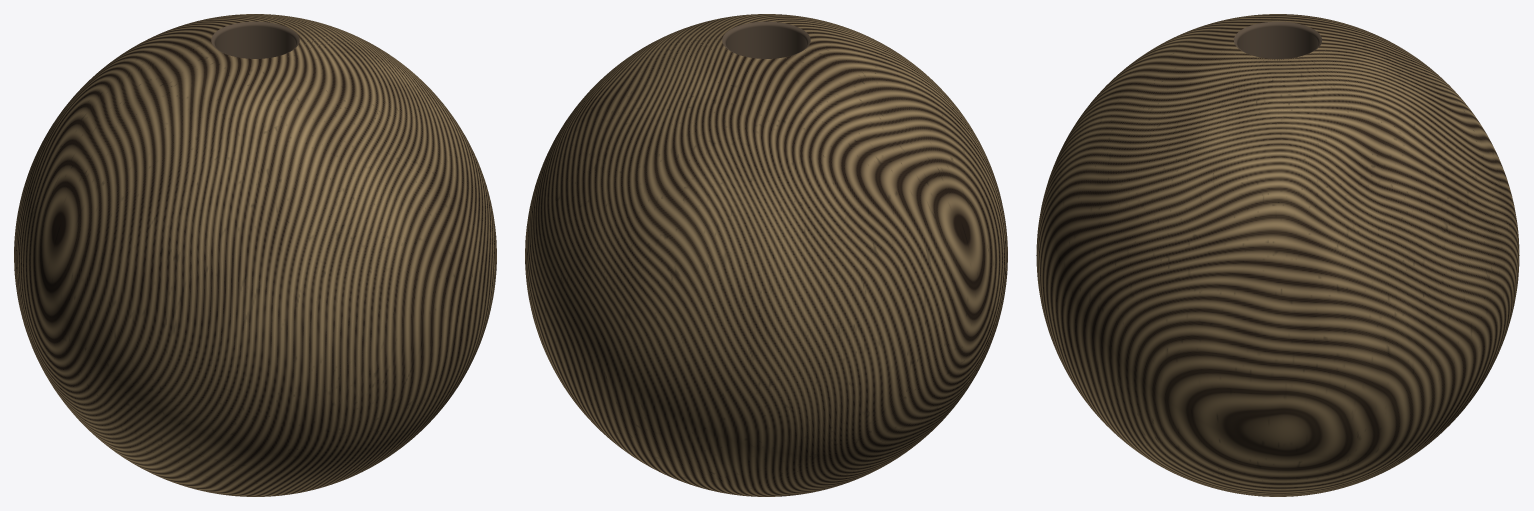
Rendered from wood-wenge-6mm.glb.
3 renders of one model, left to right at view 1: azimuth 30°, elevation 25°; view 2: azimuth 150°, elevation 25°; view 3: azimuth 270°, elevation 25°, orthographic.
Visible parts, largest first — view 1: wenge; view 2: wenge; view 3: wenge.
Part boxes in pixels (left/top/right/bottom): wenge: left=14, top=14, right=496, bottom=496; wenge: left=525, top=14, right=1007, bottom=496; wenge: left=1036, top=14, right=1519, bottom=496.
Bounding box in the file's own units: 0.006 × 0.0059 × 0.006.
2 materials, 1 textured.
